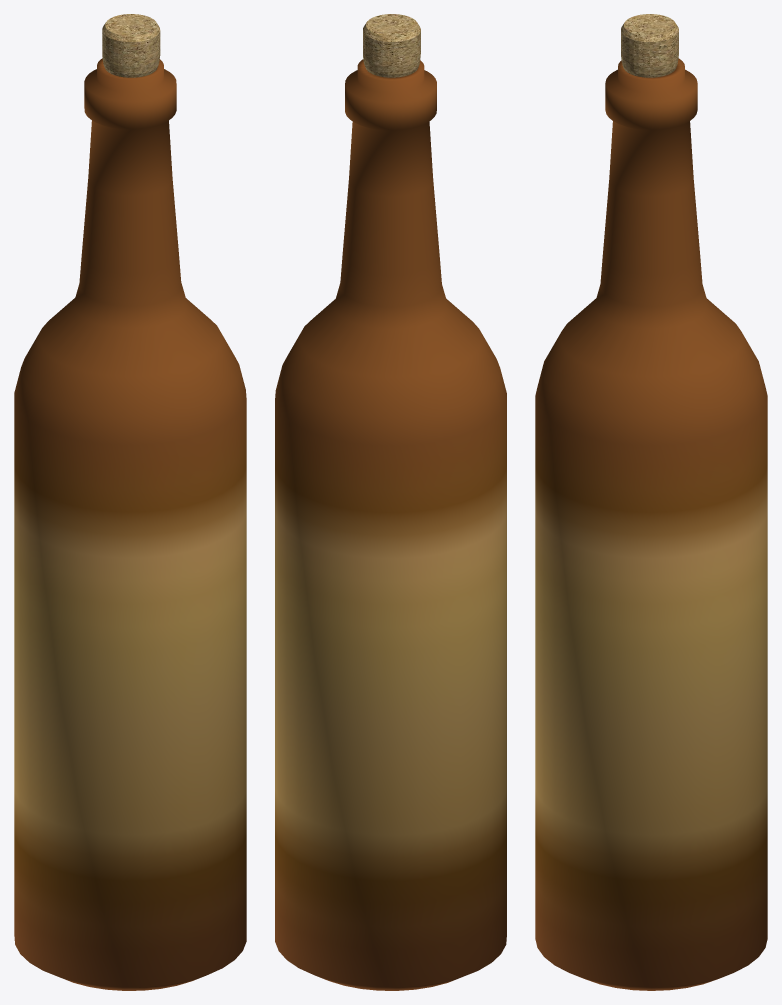
The model's file is wine bottle 1.fbx.
3 renders of one model, left to right at view 1: azimuth 30°, elevation 25°; view 2: azimuth 150°, elevation 25°; view 3: azimuth 270°, elevation 25°, orthographic.
Visible parts, largest first — view 1: wine bottle; view 2: wine bottle; view 3: wine bottle.
Part boxes in pixels (bbox=[...]): wine bottle: bbox=[14, 14, 246, 990]; wine bottle: bbox=[275, 14, 506, 990]; wine bottle: bbox=[535, 14, 767, 990].
Size of the model in its own units: 320 by 1407 by 320.
1 material, 1 textured.
